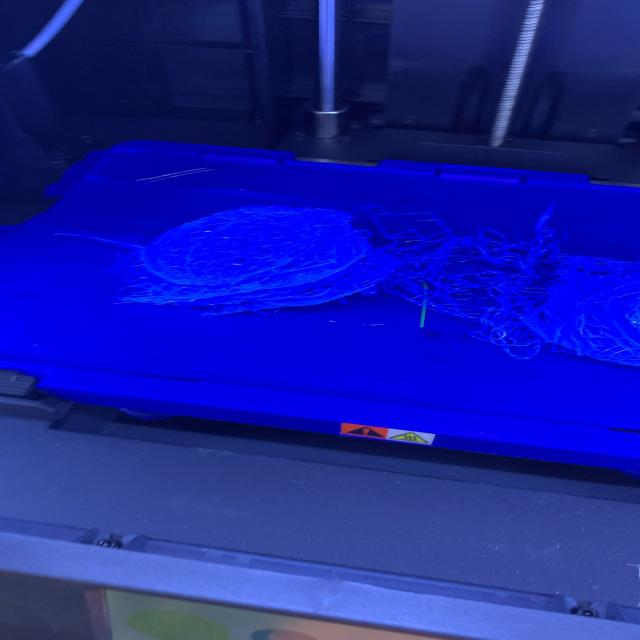spaghetti: (54, 199, 638, 367), (356, 201, 638, 367), (54, 203, 403, 317)
